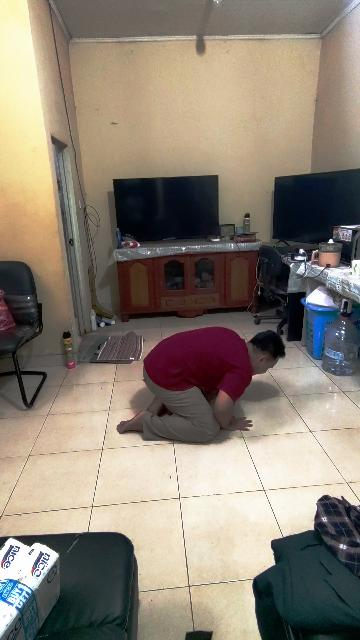jatuh: (118, 322, 284, 452)
